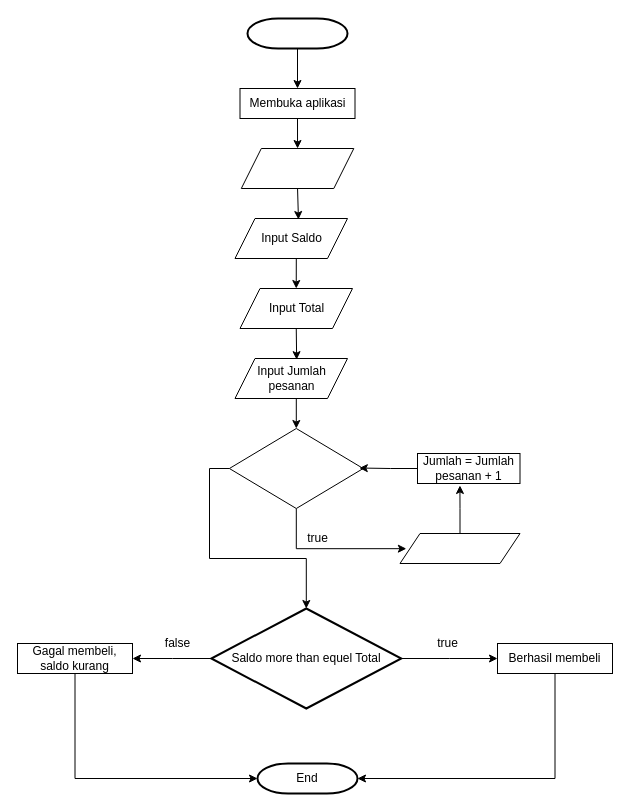
The diagram is 630 pixels wide and 811 high, and some of its shapes have lost their labels. Each missing label, with the box of its shape:
Input makanan: (240, 148, 354, 188)
Jumlah pesanan < 3: (228, 428, 363, 508)
Pesan: (399, 532, 520, 564)
Start: (246, 17, 348, 49)
